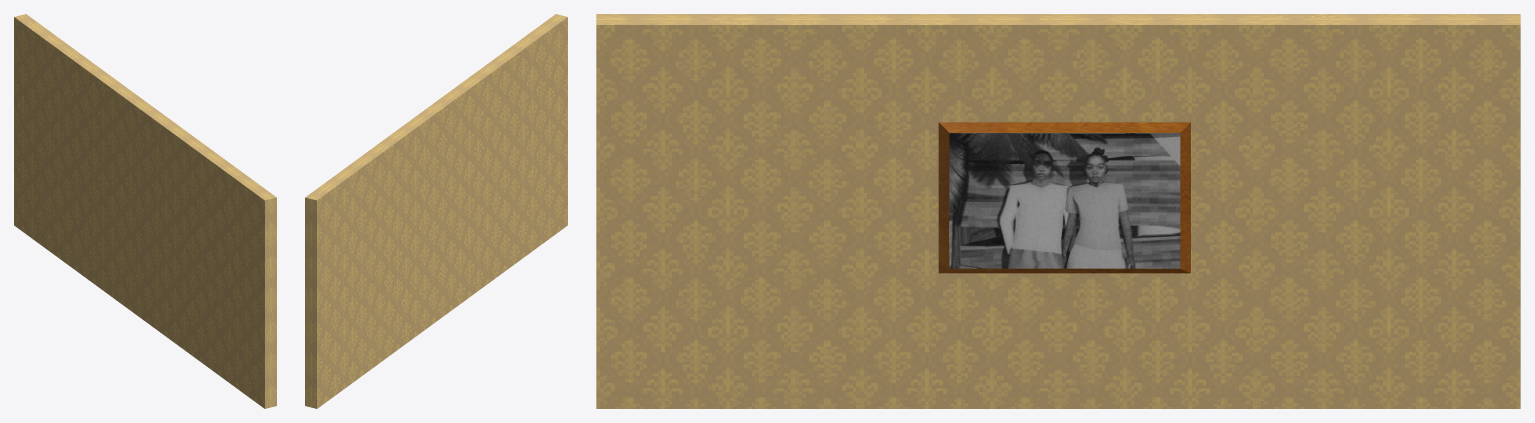
File: assetstitle.glb
The picture shows the model from 3 angles, left to right: view 1: azimuth 30°, elevation 25°; view 2: azimuth 150°, elevation 25°; view 3: azimuth 270°, elevation 25°; orthographic projection. The views are drawn at different scales.
Parts seen in each view (by area): view 1: MurbgTitle; view 2: MurbgTitle; view 3: MurbgTitle, Grandparents.003, Grandparents.002.
Boxes of the visible parts, x1,y1,x2,y2 form: MurbgTitle: [14, 14, 276, 408]; MurbgTitle: [305, 14, 567, 408]; MurbgTitle: [596, 14, 1520, 408]; Grandparents.003: [949, 133, 1180, 268]; Grandparents.002: [938, 122, 1190, 273].
Bounding box in the file's own units: 2.57 × 32.92 × 71.78.
Materials: 3 (3 with a texture image).
